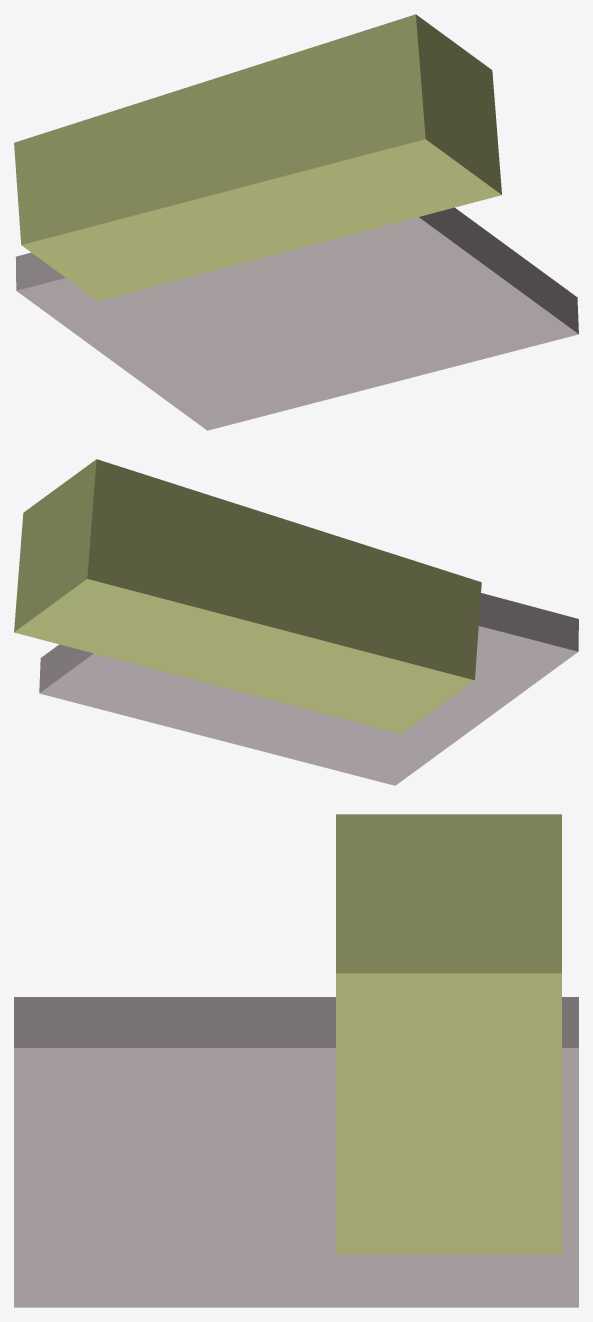
The picture shows the model from 3 angles, top to bottom: view 1: azimuth 30°, elevation 25°; view 2: azimuth 150°, elevation 25°; view 3: azimuth 270°, elevation 25°; orthographic projection. The views are drawn at different scales.
Parts seen in each view (by area): view 1: 0_1_2_0_3_1_2_3_3_3; view 2: 0_1_2_0_3_1_2_3_3_3; view 3: 0_1_2_0_3_1_2_3_3_3.
Boxes of the visible parts, x1,y1,x2,y2 form: 0_1_2_0_3_1_2_3_3_3: [14, 14, 578, 430]; 0_1_2_0_3_1_2_3_3_3: [14, 459, 578, 785]; 0_1_2_0_3_1_2_3_3_3: [14, 814, 578, 1307].
Size of the model in its own units: 18.65 by 7.99 by 15.
